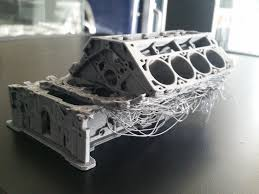fail: (101, 89, 227, 139)
